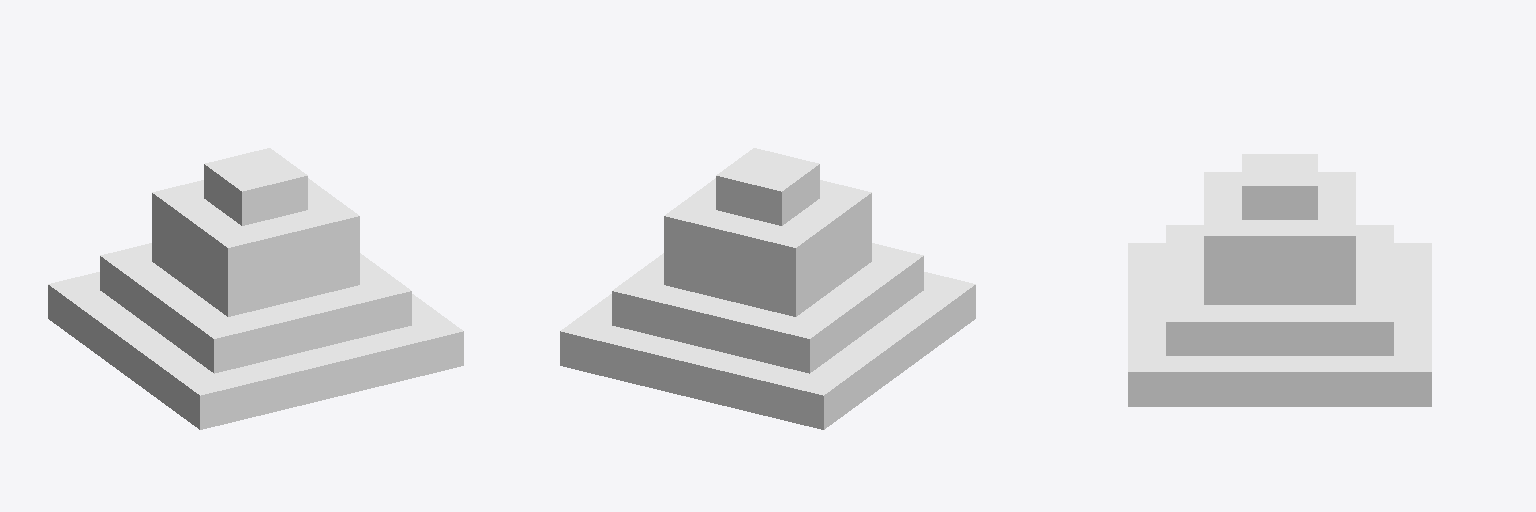
The model's file is wizard.obj.
3 renders of one model, left to right at view 1: azimuth 30°, elevation 25°; view 2: azimuth 150°, elevation 25°; view 3: azimuth 270°, elevation 25°, orthographic.
Visible parts, largest first — view 1: object 1; view 2: object 1; view 3: object 1.
Boxes of the visible parts, x1,y1,x2,y2 form: object 1: [48, 148, 463, 429]; object 1: [560, 148, 975, 429]; object 1: [1128, 154, 1431, 406].
Size of the model in its own units: 0.8 by 0.5 by 0.8.